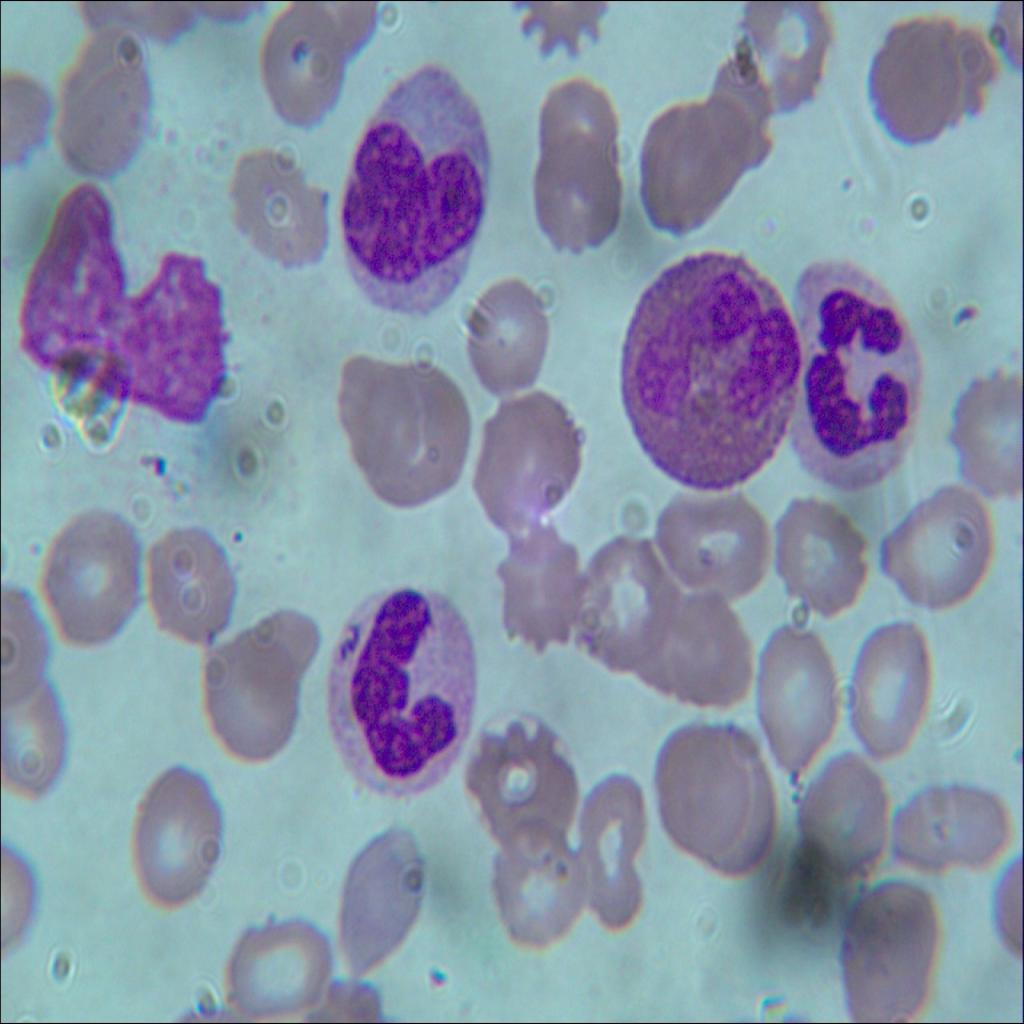Eosinofil: (615, 244, 795, 488)
Eritrosit: (654, 725, 778, 875), (648, 470, 778, 604), (878, 482, 1000, 621), (566, 757, 656, 938), (373, 358, 473, 520), (46, 32, 154, 179), (229, 134, 336, 280), (471, 387, 581, 525), (459, 707, 573, 835), (39, 511, 146, 644), (250, 2, 348, 145), (203, 630, 302, 768), (755, 628, 842, 785), (843, 881, 939, 1023), (651, 586, 755, 714), (686, 55, 784, 188), (726, 0, 837, 117), (130, 769, 220, 911), (868, 11, 963, 142), (219, 914, 333, 1023), (588, 541, 684, 668), (768, 497, 869, 614), (329, 349, 426, 468), (493, 817, 583, 945), (338, 835, 424, 968), (799, 734, 882, 871), (142, 524, 234, 647), (468, 266, 550, 404), (643, 95, 721, 235), (531, 142, 628, 252), (846, 625, 924, 761), (894, 781, 999, 878), (498, 524, 583, 641), (531, 71, 618, 174), (954, 374, 1023, 495), (0, 672, 59, 799)
Limfoblast: (342, 58, 496, 316)
Neutrofil: (324, 574, 476, 796), (782, 262, 926, 488)
Platelet: (944, 285, 982, 334), (418, 959, 456, 1000), (146, 451, 174, 484), (828, 168, 854, 194), (230, 518, 254, 545)
